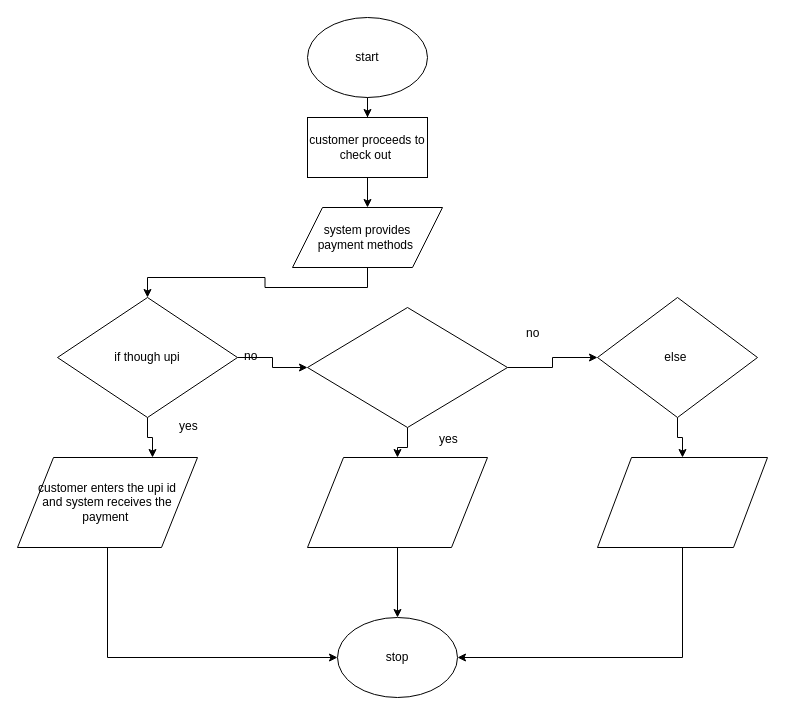
The diagram is 785 pixels wide and 715 high, and some of its shapes have lost their labels. The shapes that lost their labels are listed below. From the top down, each one's centre as x and y in pixels, then its label:
At pixel 407 367: "else if throgh debit card".
At pixel 397 502: "customer enter the card detals and the pin to complete the payment".
At pixel 682 502: "customer pays on delivery to the delivery person".
